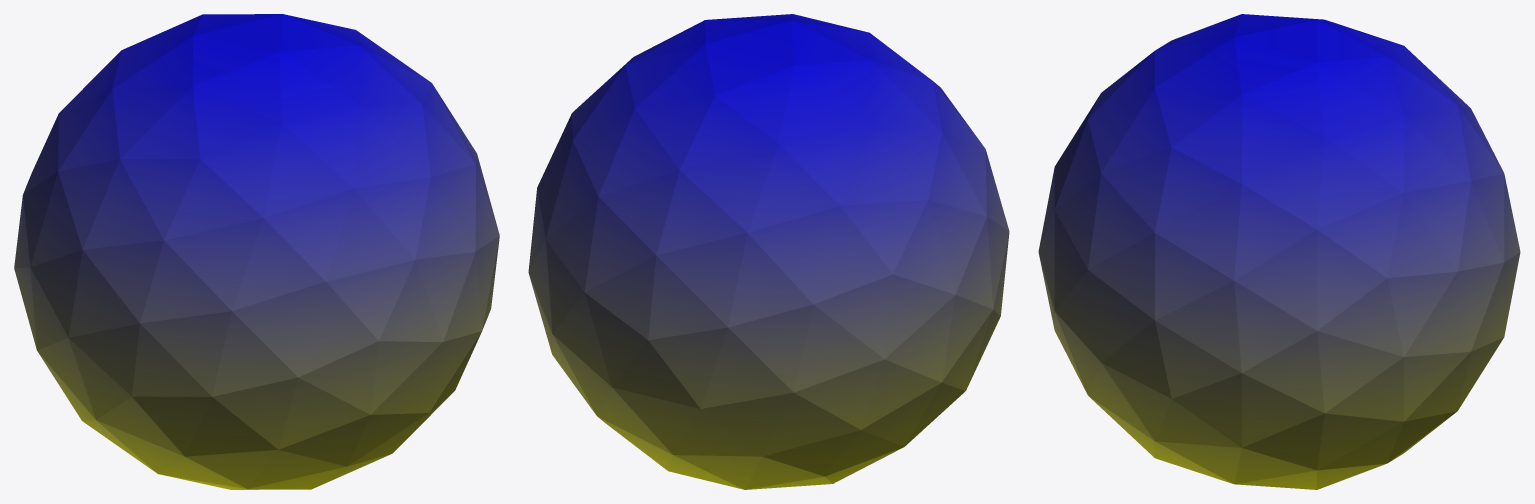
The picture shows the model from 3 angles, left to right: view 1: azimuth 30°, elevation 25°; view 2: azimuth 150°, elevation 25°; view 3: azimuth 270°, elevation 25°; orthographic projection.
Bounding box in the file's own units: 0.983 × 0.9822 × 1.
